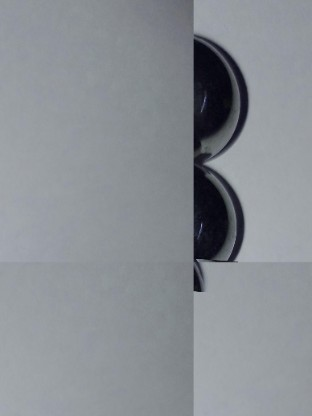ironball: (195, 23, 245, 160), (194, 163, 244, 261)
